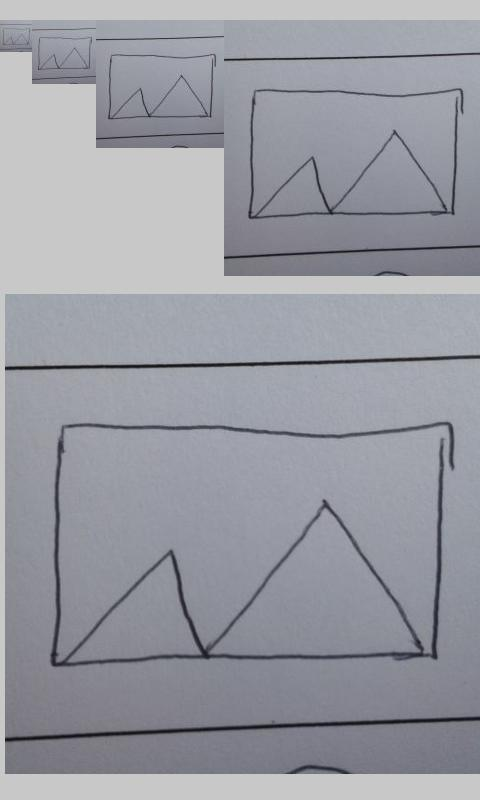image_view: (47, 420, 453, 672), (249, 86, 461, 221), (107, 53, 218, 120), (37, 36, 92, 70), (2, 27, 31, 46)
